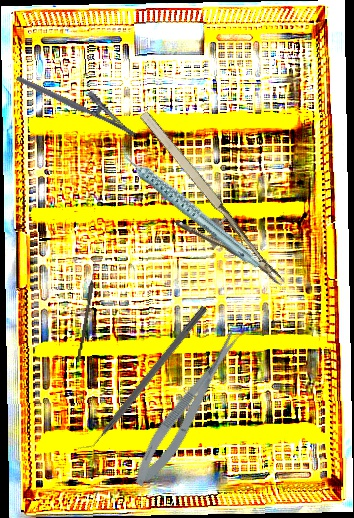Chopper: (75, 298, 208, 458)
Handpiece: (118, 121, 262, 291)
Micro Scissor: (125, 325, 251, 493)
Needle Holder: (111, 106, 285, 314), (15, 59, 145, 139)
Surgical Spoon: (76, 254, 99, 363)
